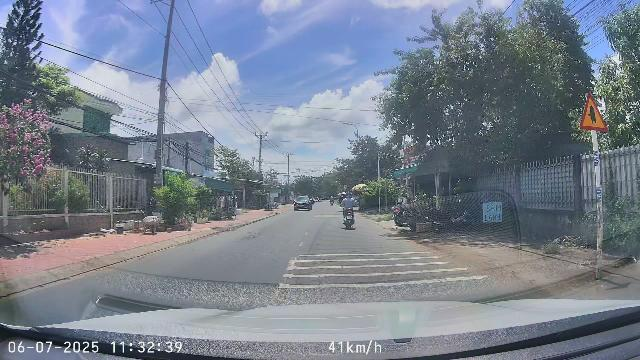207-giao-nhau-voi-duong-khong-uu-tien: (580, 92, 608, 132)
